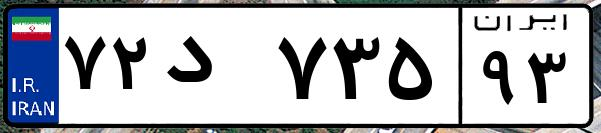2: (110, 28, 158, 98)
3: (330, 28, 385, 110), (525, 38, 570, 115)
5: (385, 28, 445, 110)
7: (270, 28, 330, 110), (57, 26, 110, 100)
9: (475, 38, 525, 113)
د: (158, 20, 270, 120)
